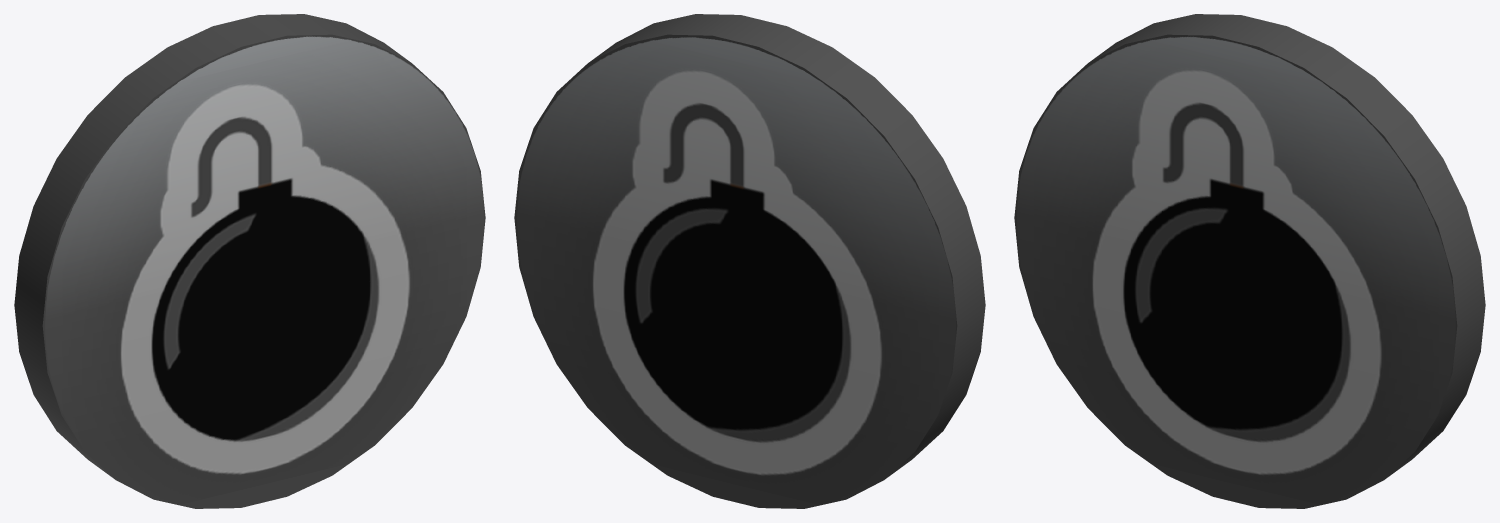
The model's file is Item_Modeling.FBX.
The picture shows the model from 3 angles, left to right: view 1: azimuth 30°, elevation 25°; view 2: azimuth 150°, elevation 25°; view 3: azimuth 330°, elevation 25°; orthographic projection.
Visible parts, largest first — view 1: Cylinder001; view 2: Cylinder001; view 3: Cylinder001.
Boxes of the visible parts, left/top/right/bottom form: Cylinder001: left=14, top=14, right=485, bottom=508; Cylinder001: left=514, top=14, right=985, bottom=508; Cylinder001: left=1014, top=14, right=1485, bottom=508.
Size of the model in its own units: 85.34 by 84.88 by 9.45.
